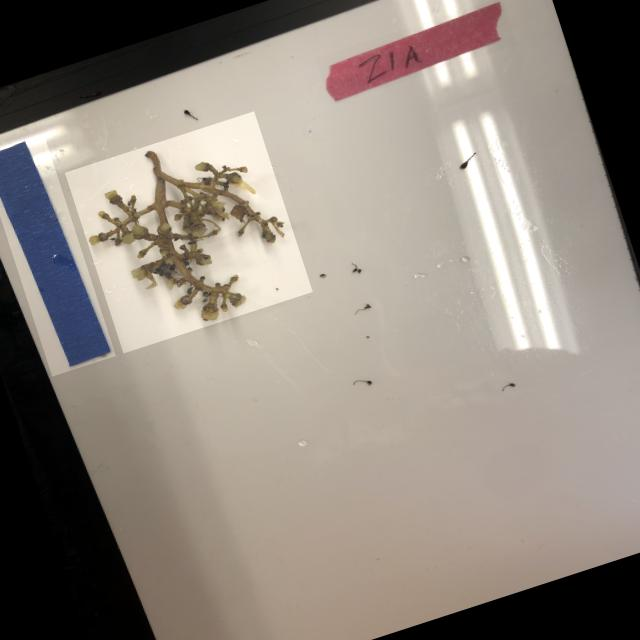index: (316, 0, 517, 105)
measure_label: (0, 133, 116, 376)
rachis_cluster: (65, 111, 313, 353)
